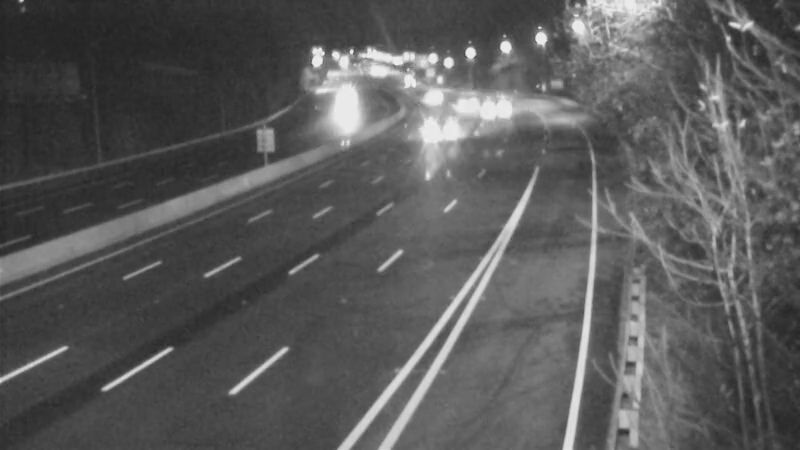vehicle: (382, 58, 432, 108), (406, 76, 456, 126), (439, 81, 489, 131), (466, 80, 516, 130), (419, 102, 469, 152), (318, 77, 368, 127)
